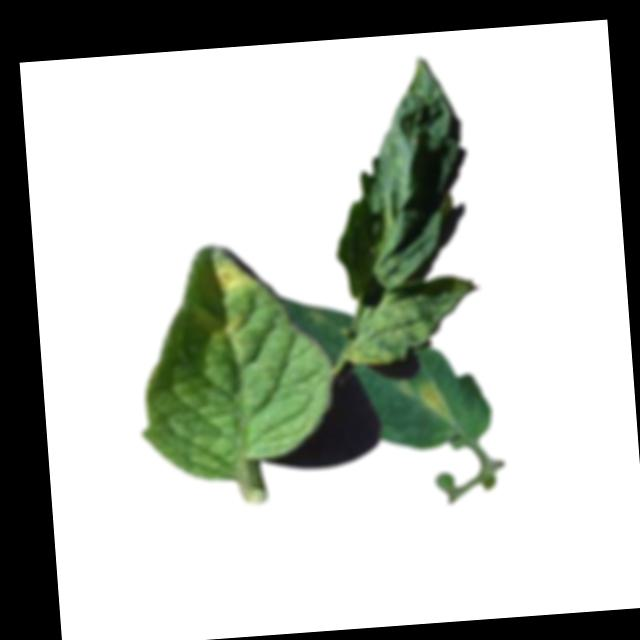Leaf_Mold: (215, 258, 259, 297), (417, 375, 453, 421)
